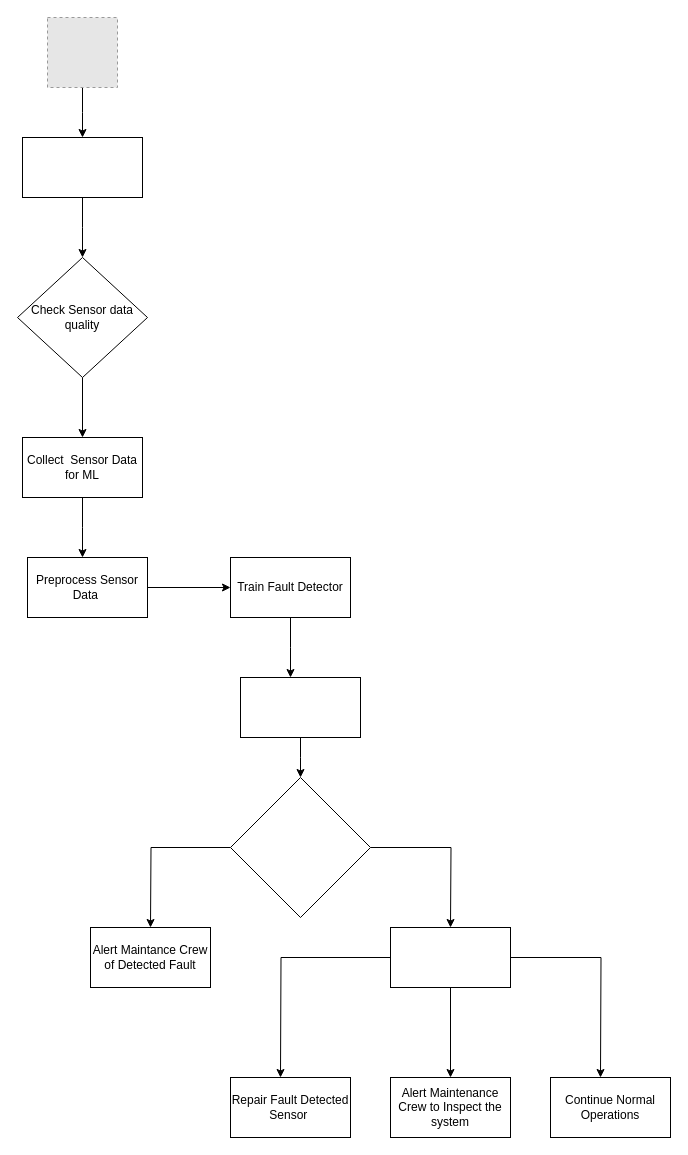
Image size: 688x1155. Some labels were removed from this diagram. Grey dashed boxes stand in for pictures. The centre of each missing label's shape, as x and y in pixels:
Continue Monitoring Sensor Data Quality is Good?: [450,957]
Initialize System: [82,167]
Is Fault Detected by Sensor Fault Detecting System: [300,847]
Run ML Fault Detector: [300,707]
